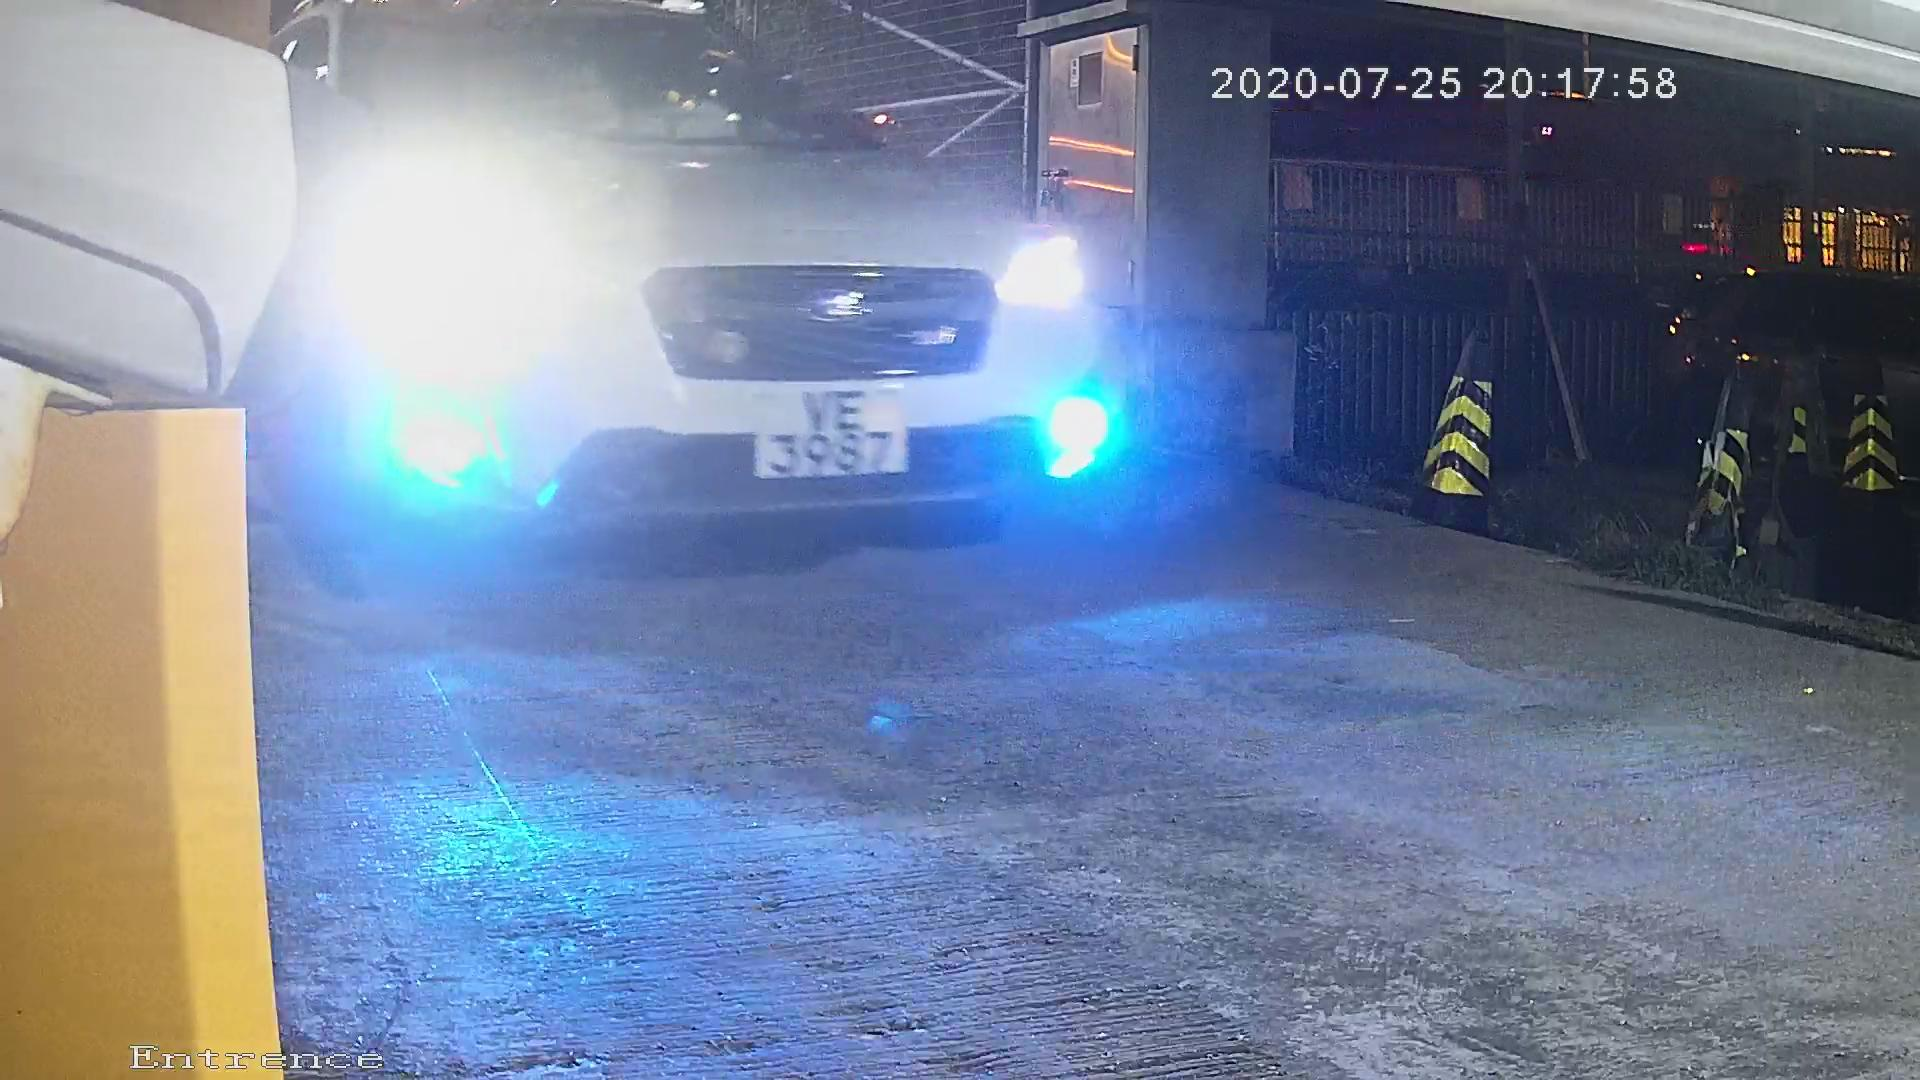License Plate: (738, 366, 931, 501)
